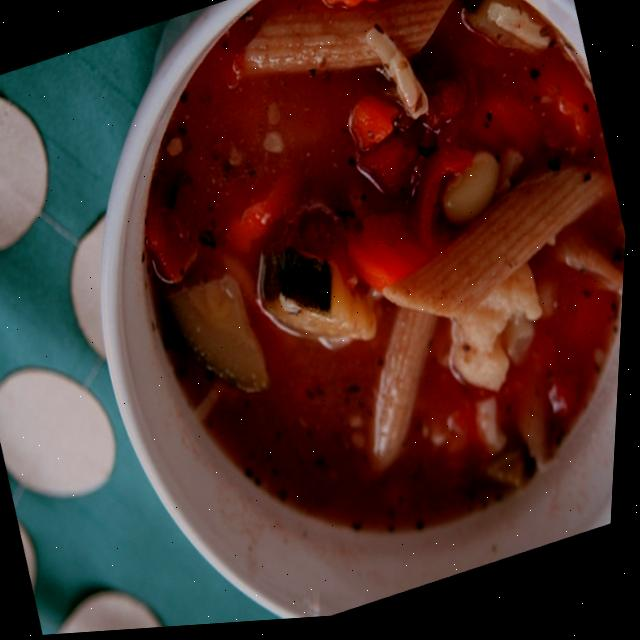汤锅炖物: (22, 0, 640, 637)
